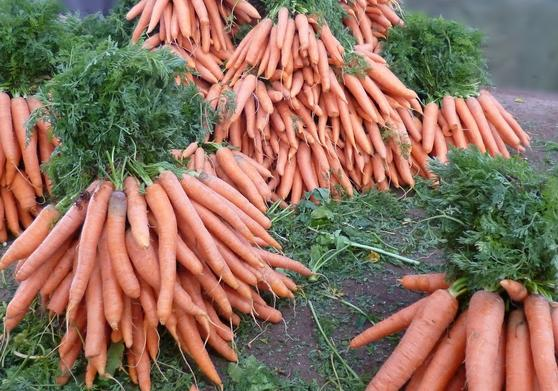carrot: (145, 185, 180, 324), (12, 95, 49, 195), (277, 9, 288, 45)
